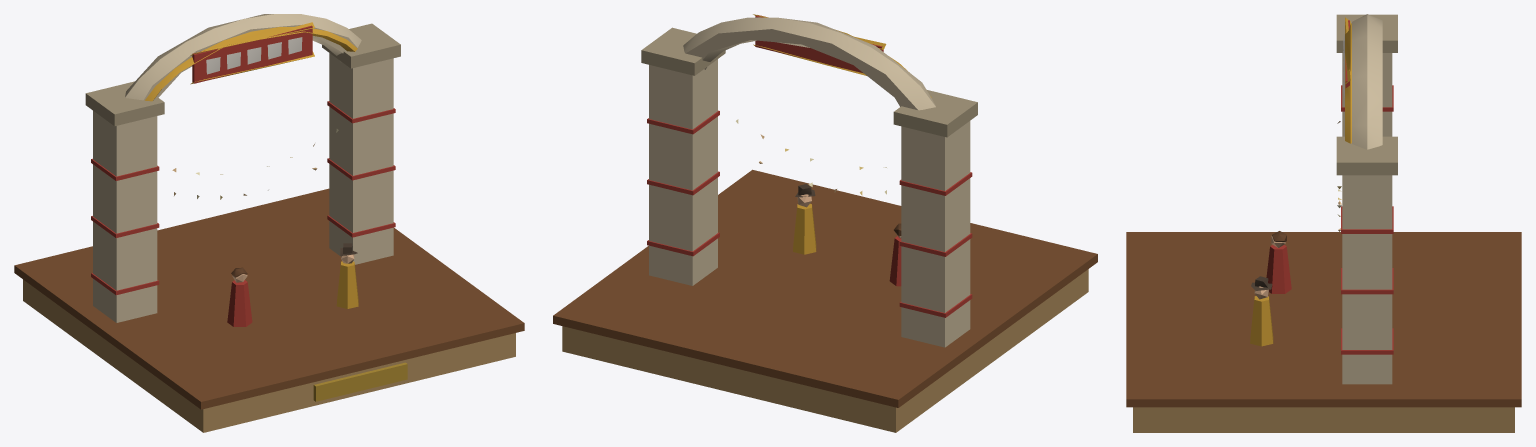
Rendered from festival_arch_souvenir.glb.
3 views of the same model, side by side, from view 1: azimuth 30°, elevation 25°; view 2: azimuth 150°, elevation 25°; view 3: azimuth 270°, elevation 25° (orthographic). The views are drawn at different scales.
Parts seen in each view (by area): view 1: decor-festival_arch_souvenir; view 2: decor-festival_arch_souvenir; view 3: decor-festival_arch_souvenir.
Part boxes in pixels (x1,y1,x2,y2): decor-festival_arch_souvenir: (14, 14, 524, 432); decor-festival_arch_souvenir: (553, 14, 1097, 432); decor-festival_arch_souvenir: (1126, 14, 1521, 432).
Size of the model in its own units: 1.76 by 1.54 by 1.76.
